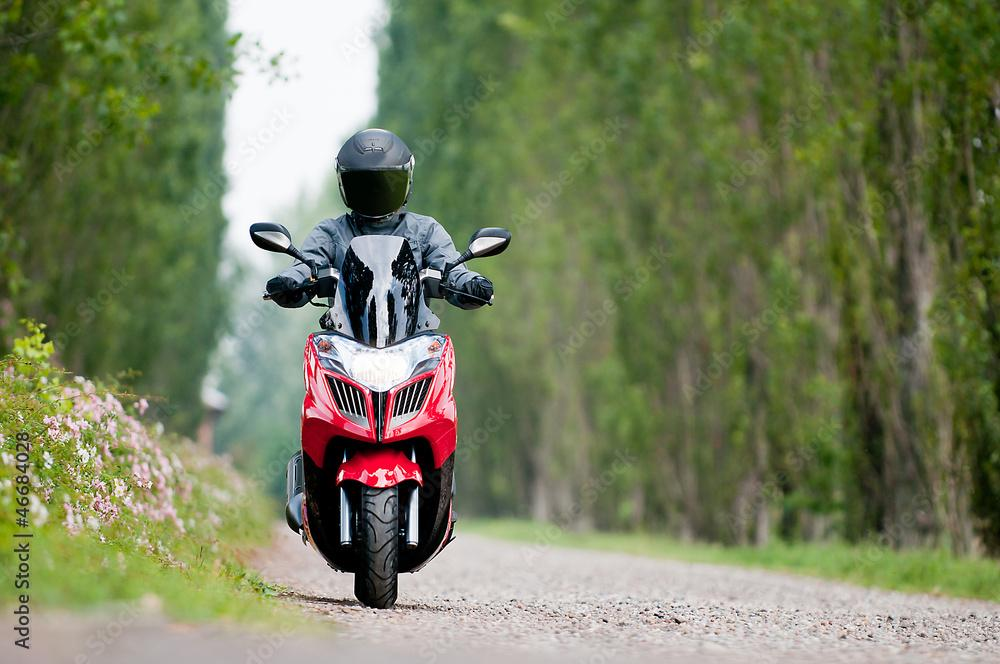helmet: (333, 127, 416, 223)
